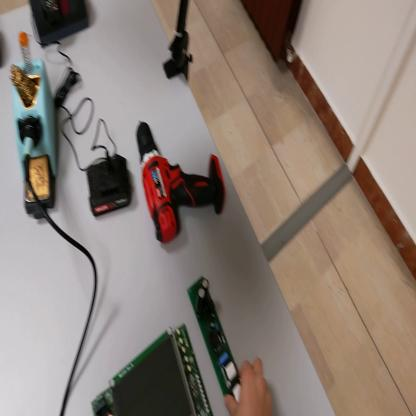electric screwdriver: (133, 114, 227, 247)
electric screwdriver battery: (85, 155, 132, 220)
hand: (224, 357, 273, 416)
high voltage board: (185, 275, 243, 402)
low voltage board: (89, 325, 213, 416)
socket: (29, 1, 91, 49), (2, 32, 4, 67)
welder base: (6, 58, 55, 220)
welder probe tip: (20, 127, 37, 184)
